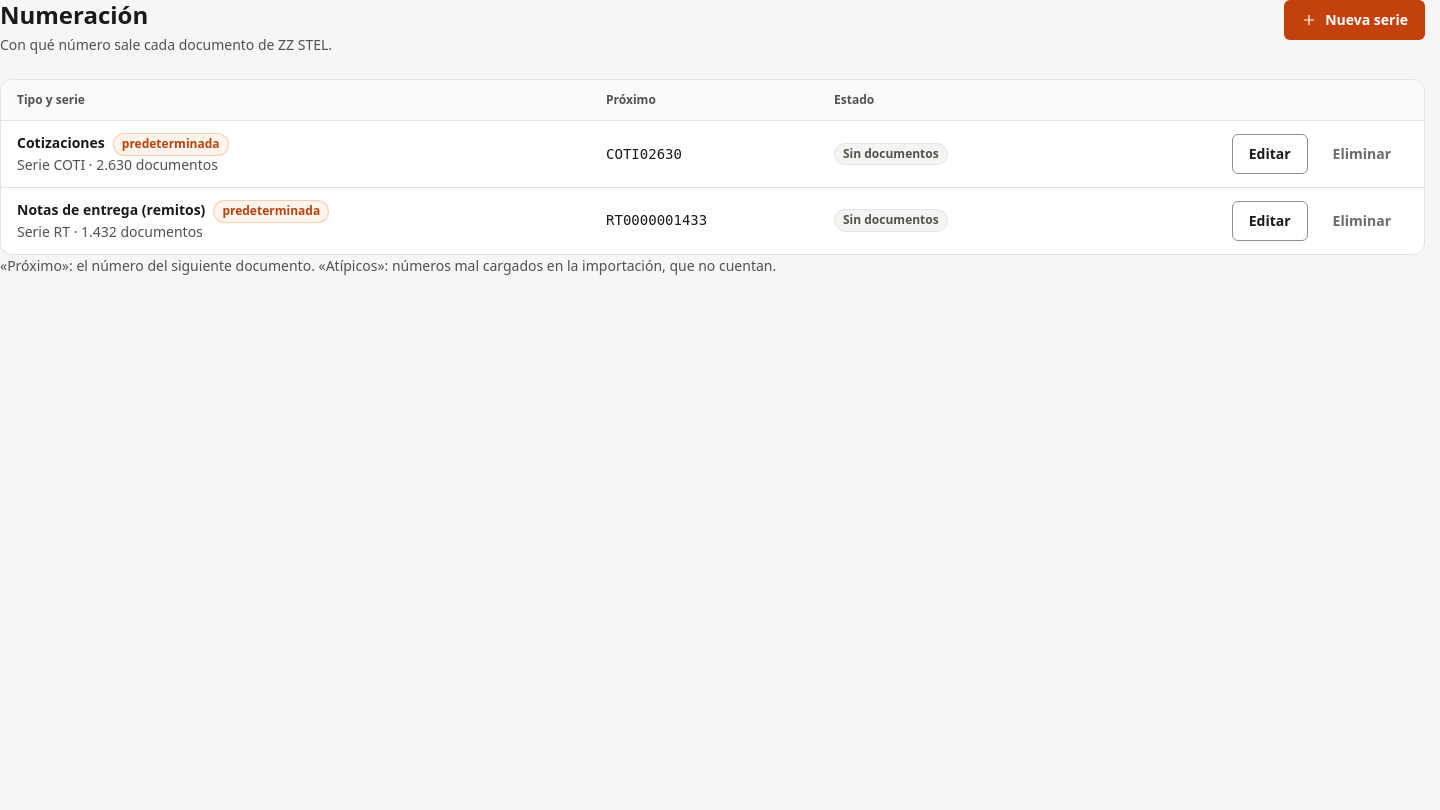
Test: Numeración: editar (Fase 58 · E3) › al editar, el tipo y el nombre quedan bloqueados y el prefijo no
Click the button "Editar" in the row of "Cotizaciones": [1270, 154] box left=1232, top=134, right=1308, bottom=174
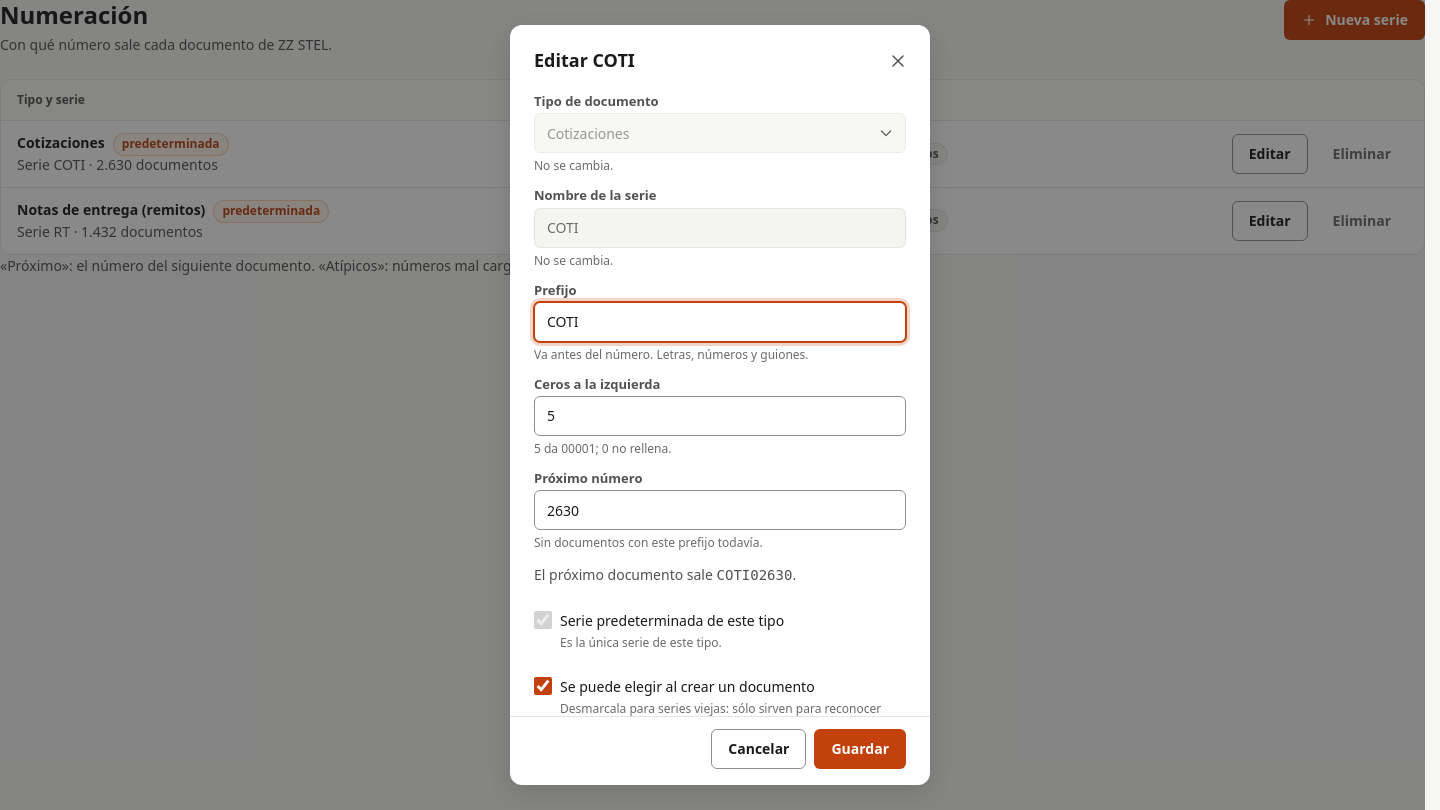
Result: the dialog "Editar COTI" is shown at left=510, top=25, right=930, bottom=785
Result: the dropdown labelled "Tipo de documento" is disabled at left=534, top=113, right=906, bottom=153
Result: the field labelled "Nombre de la serie" is disabled at left=534, top=208, right=906, bottom=248
